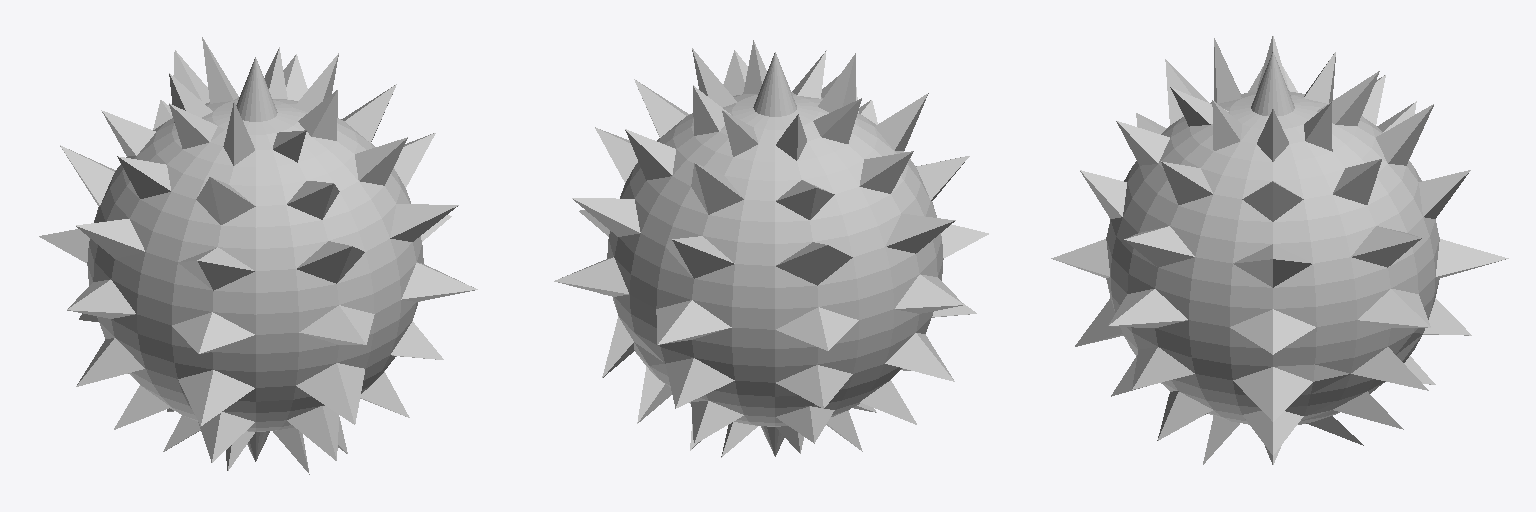
File: bomb.obj
The picture shows the model from 3 angles: view 1: azimuth 30°, elevation 25°; view 2: azimuth 150°, elevation 25°; view 3: azimuth 270°, elevation 25°; orthographic projection.
Bounding box in the file's own units: 2.65 × 2.66 × 2.72.